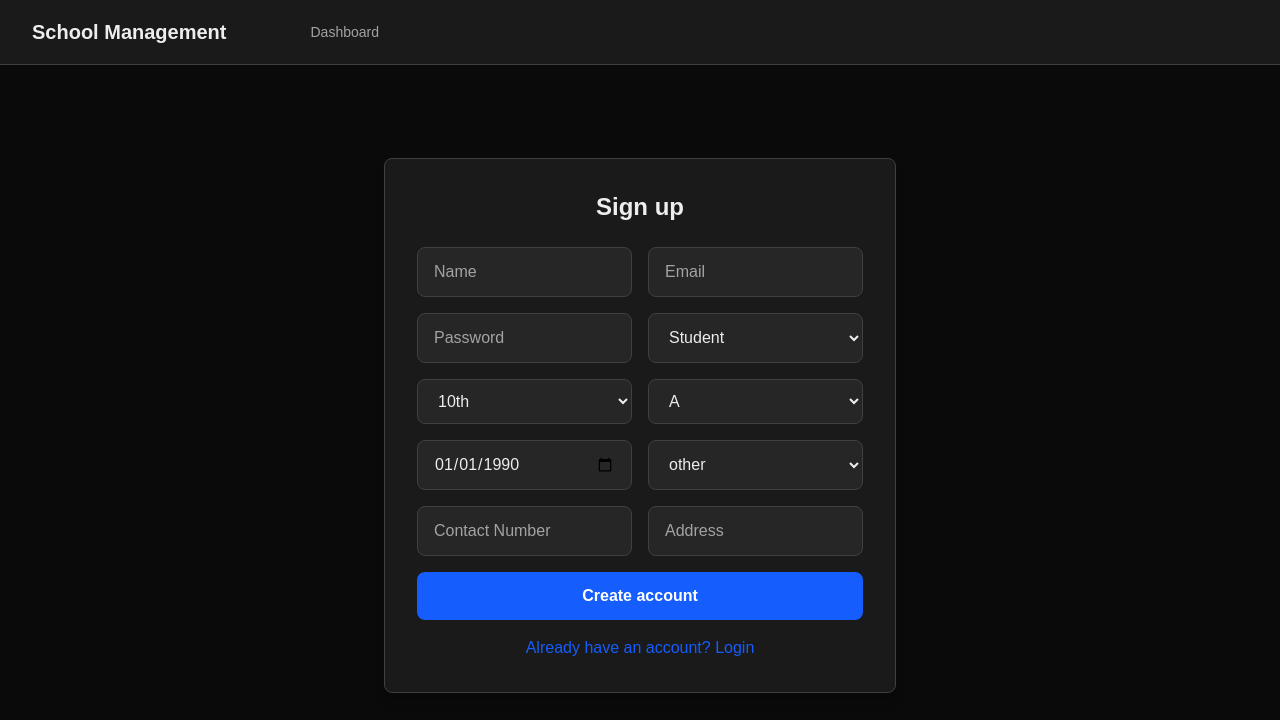
Authentication E2E Tests › Signup Page › should show admin-specific fields when admin role is selected
The image size is (1280, 720).
Select "Admin" in the dropdown with id "role" at coordinates (756, 338), box [648,313,863,363]
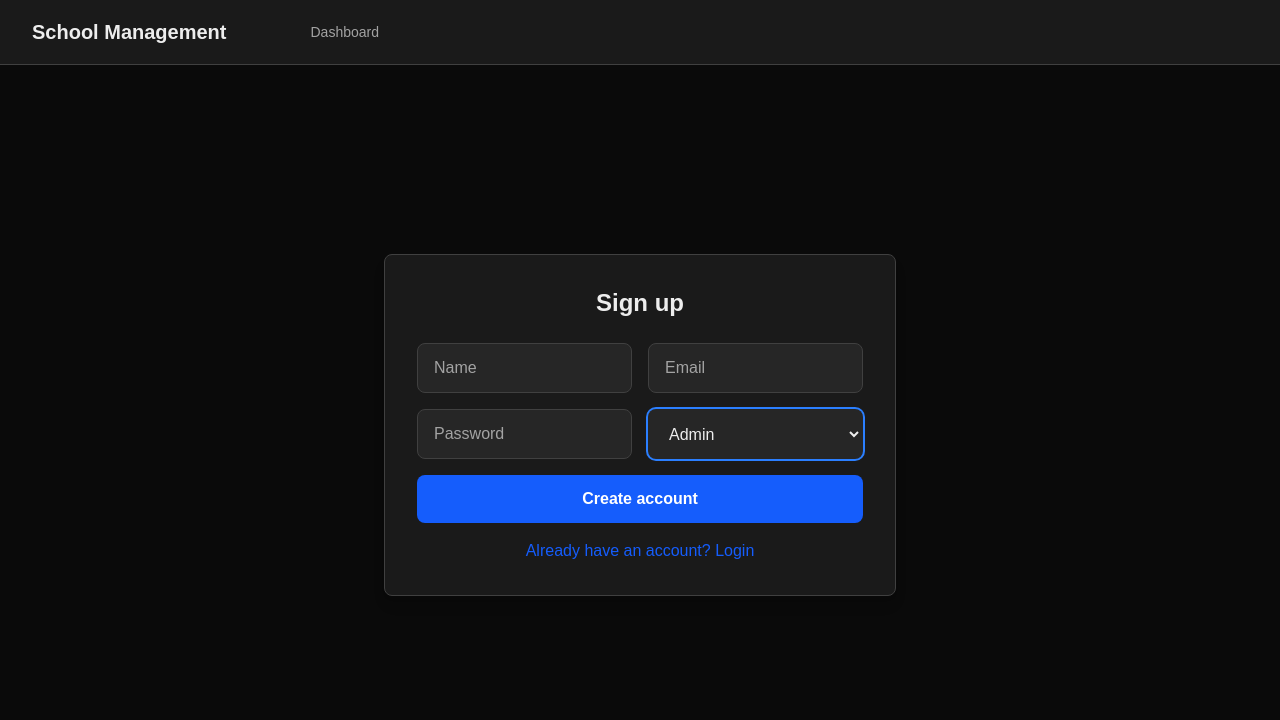
Now the dropdown with id "grade" is gone
Now the dropdown with id "section" is gone
